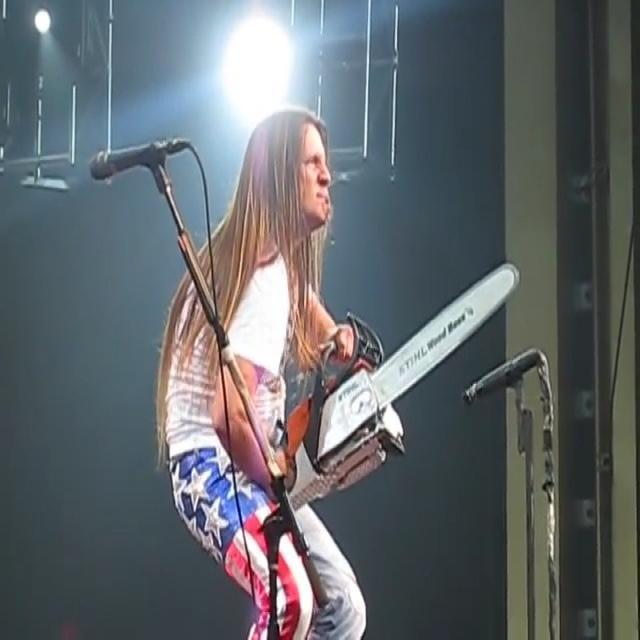Chainsaw: (270, 237, 528, 524)
